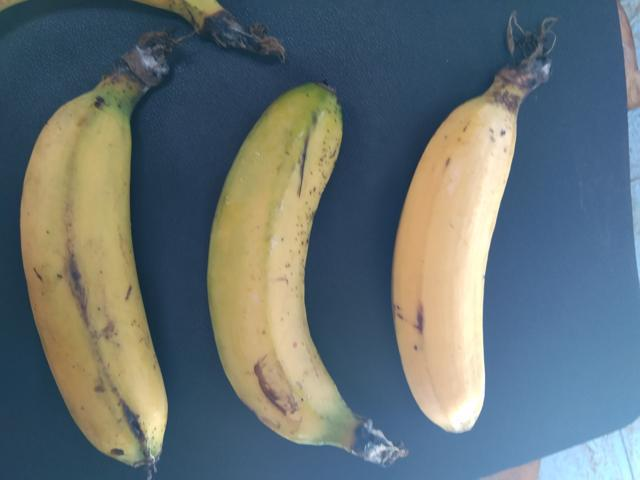freshripe: (383, 79, 583, 425)
ripe: (190, 73, 388, 455), (13, 33, 189, 441)
